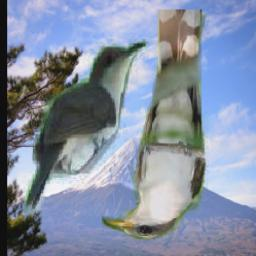Cuckoo: (102, 11, 209, 242), (24, 40, 149, 215)
